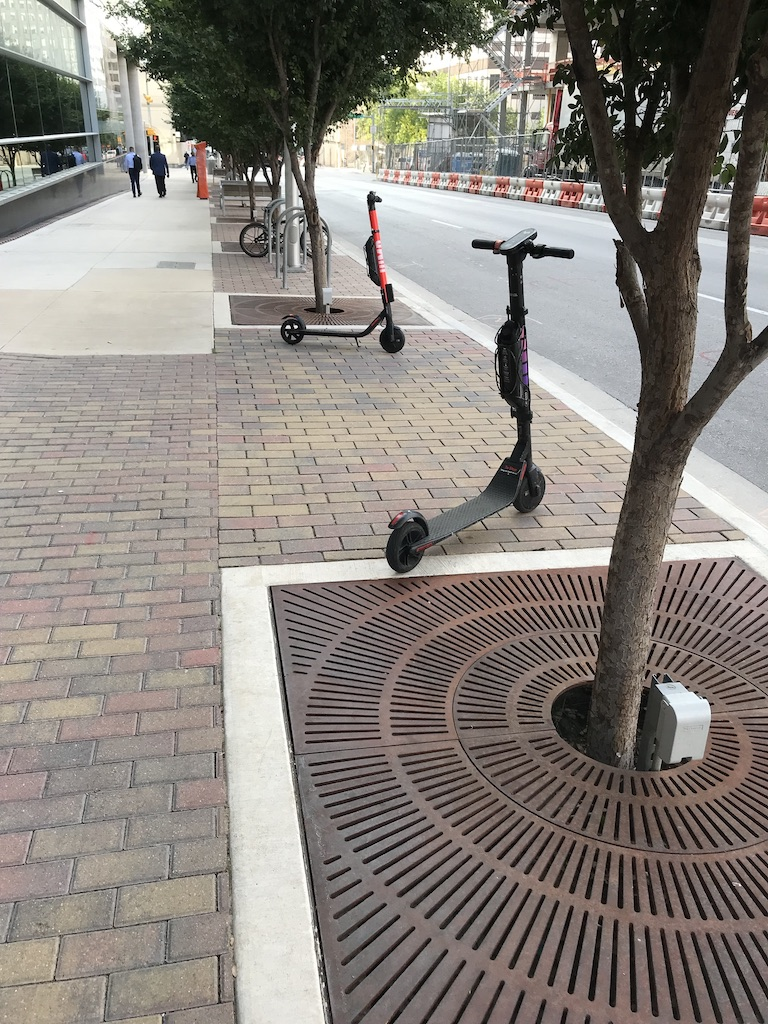scooter: (386, 231, 573, 574), (280, 191, 406, 354)
